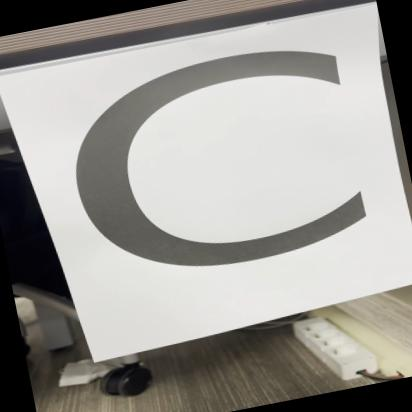seat: (3, 0, 412, 367)
